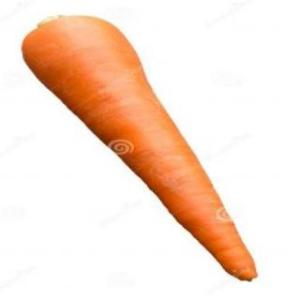carrot: (15, 6, 271, 284)
